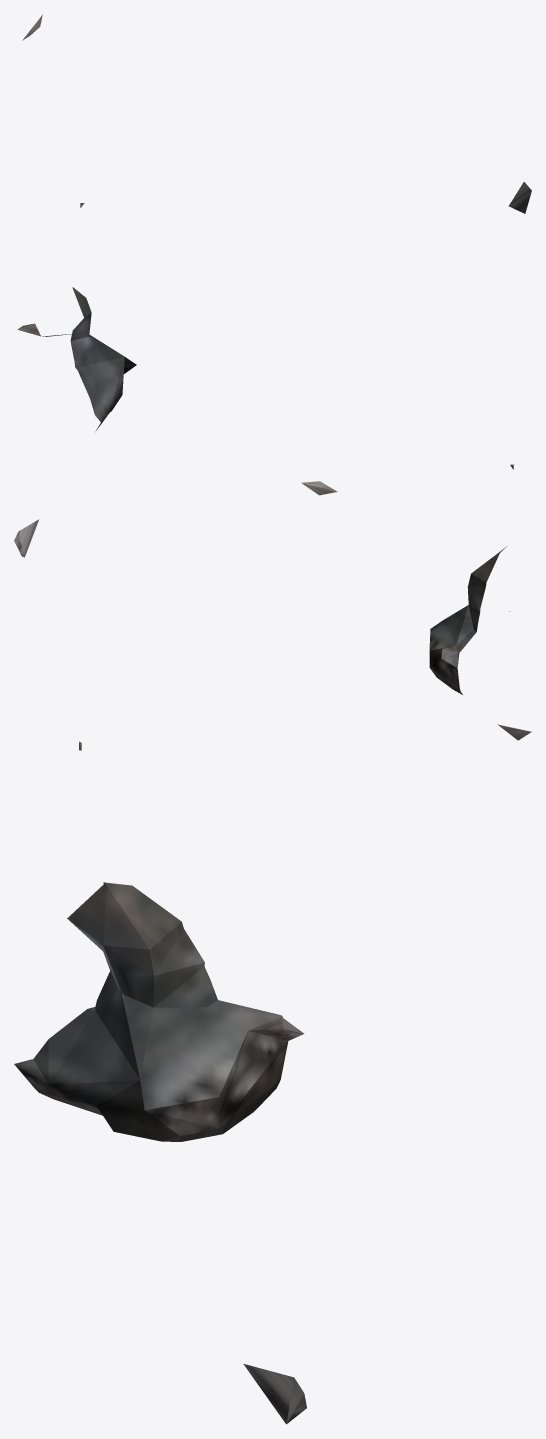
3 views of the same model, one above another, from view 1: azimuth 30°, elevation 25°; view 2: azimuth 150°, elevation 25°; view 3: azimuth 270°, elevation 25° (orthographic). The views are drawn at different scales.
Bounding box in the file's own units: 0.8082 × 0.4277 × 0.4471.
Materials: 1 (1 with a texture image).
